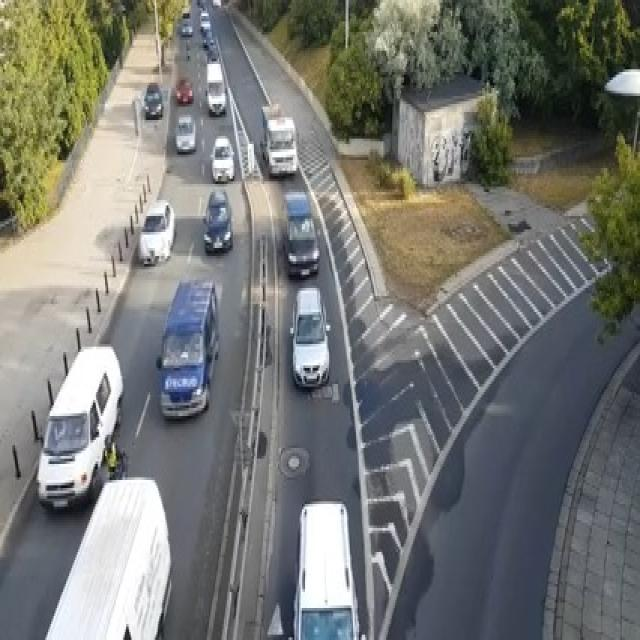car: (299, 496, 361, 640), (294, 285, 326, 388), (280, 193, 319, 275), (204, 188, 236, 260), (140, 198, 172, 266), (211, 135, 234, 191), (176, 108, 195, 157), (145, 85, 164, 128), (180, 73, 192, 110)
truck: (55, 476, 162, 640), (44, 343, 126, 506), (166, 278, 210, 420), (260, 110, 300, 178), (205, 64, 228, 118)
